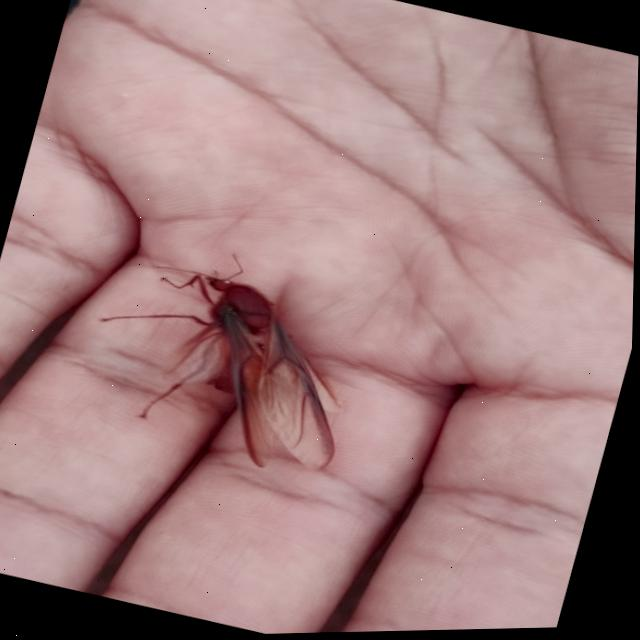Alive-Male-Alate: (72, 223, 381, 489)
